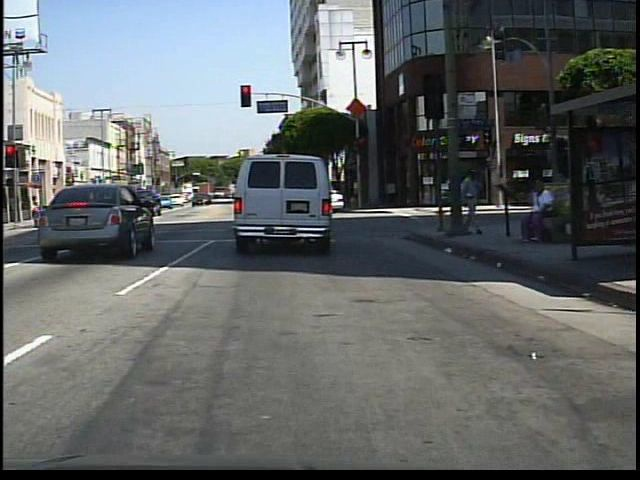person: (517, 177, 561, 244), (457, 163, 487, 238), (33, 195, 40, 228)
